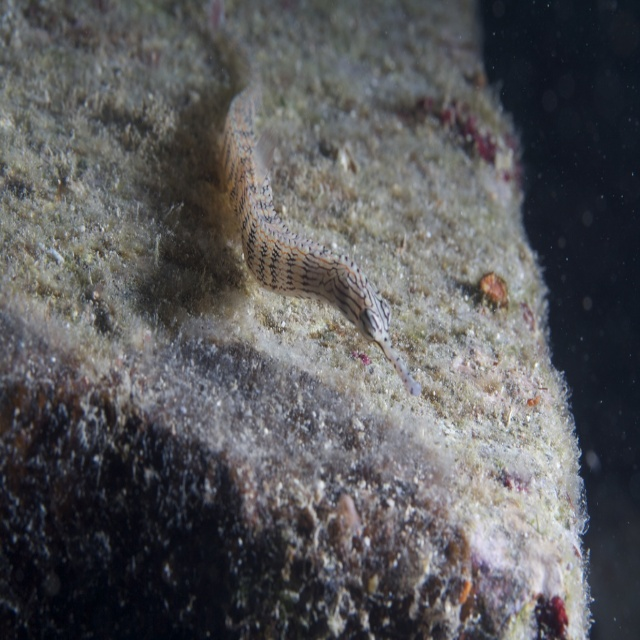Snake: (226, 31, 419, 391)
